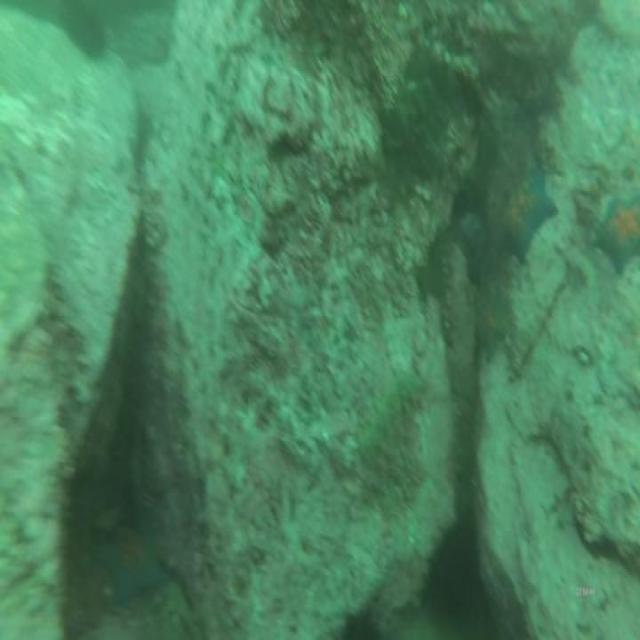echinus: (433, 528, 476, 622)
holothurian: (364, 365, 424, 458)
starfish: (94, 533, 164, 602), (504, 171, 557, 262), (598, 196, 640, 273), (475, 297, 503, 357)
